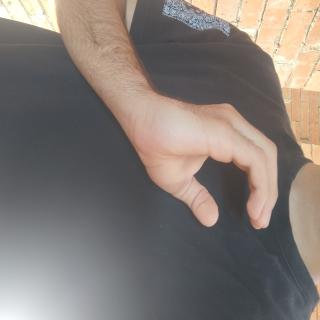JEEM: (70, 43, 174, 255)
